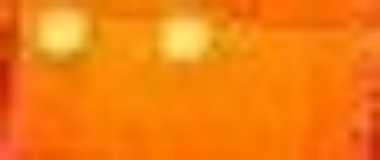Hotspot: (23, 5, 268, 62)
